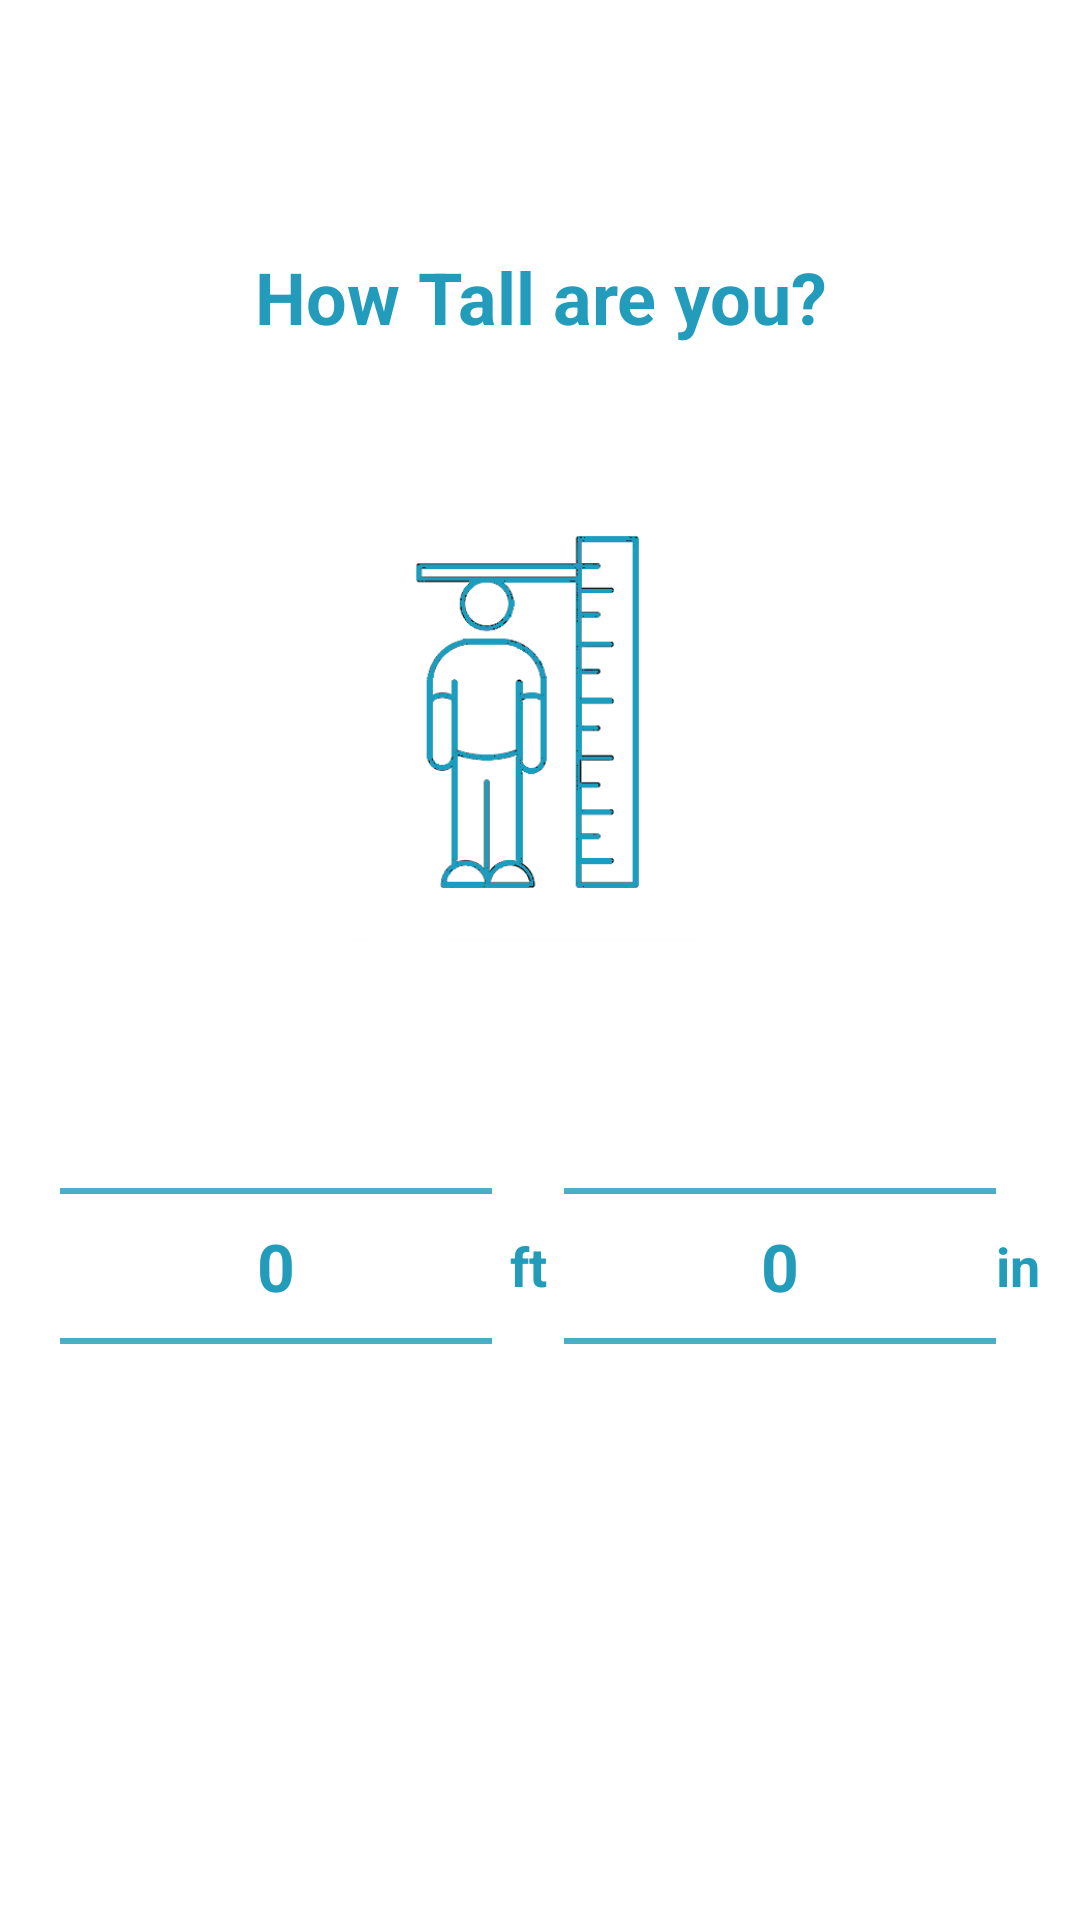

Named icons in this screenshot (1080 × 1920) and their bounding boxes, (x1, y1, x2, y2):
height: (416, 536, 639, 888)
